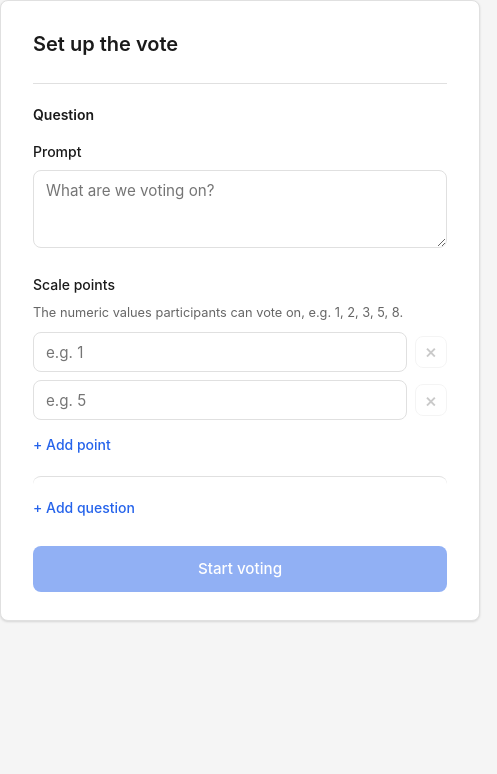
PlanningForm › adds a second question when the + Add question button is clicked
Check: the text "Question 1" is not shown
Click the button "+ Add question".
click(84, 508)  # box x1=33 y1=476 x2=447 y2=518
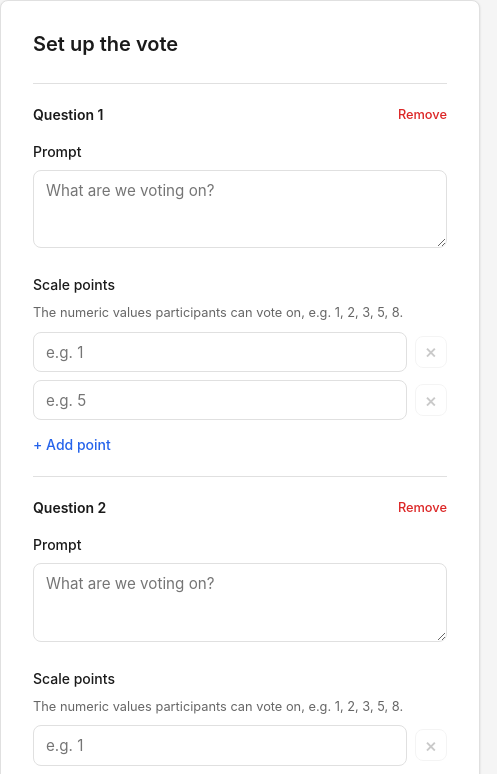
Check: the text "Question 1" is shown, box x1=33 y1=104 x2=104 y2=125
Check: the text "Question 2" is shown, box x1=33 y1=497 x2=106 y2=518
